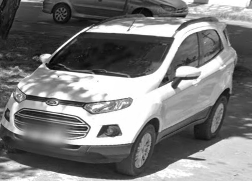car: (1, 14, 236, 176)
